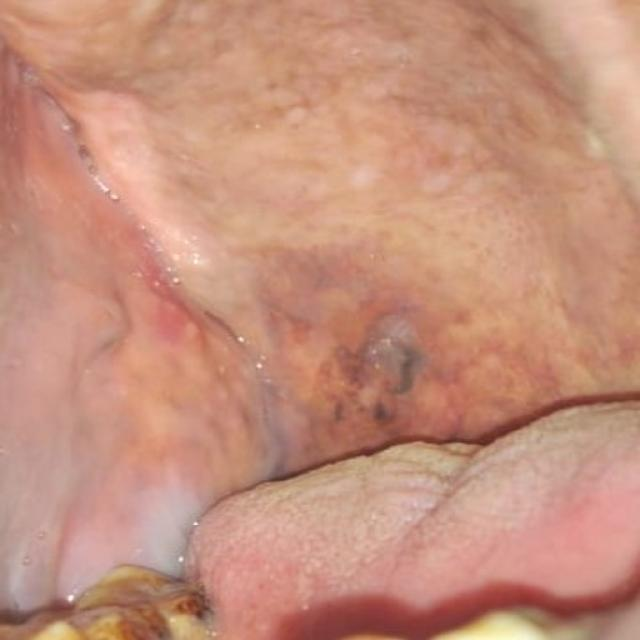cancer-detection: (288, 264, 539, 448)
processing_area: (3, 1, 639, 633)
